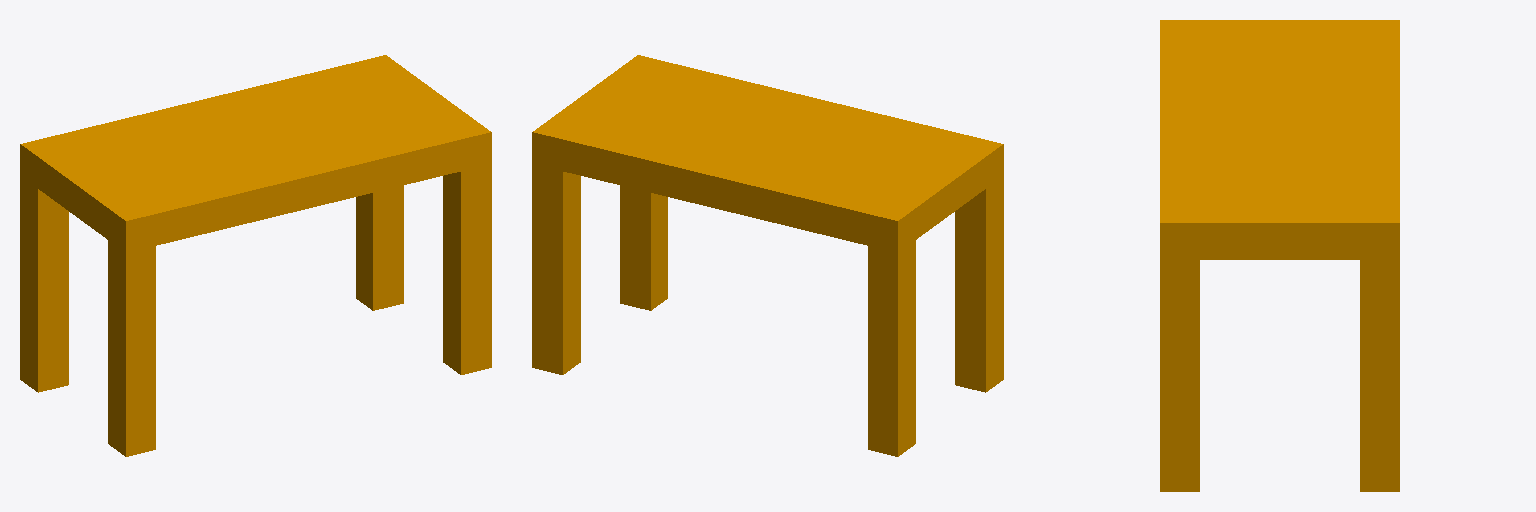
robot.urdf — tableIkea1:
<?xml version="1.0"?>
<robot name="tableIkea1">
	<link name="tableIkea1">
		<inertial>
			<!--origin xyz="0 0 0" rpy="0 0 0" /-->
			<mass value="0.5" />
			<!--inertia ixx="0.000360" ixy="0" ixz="0" iyy="0.0000615" iyz="0" izz="0.00036" /-->
		</inertial>
    		<visual>
	      		<!--origin rpy="0 0 0" xyz="0 0 0"/-->
      			<geometry>
        			<mesh filename="tableIkea1.obj"/>
      			</geometry>
         	</visual>
    		<collision>
      			<!--origin rpy="0 0 0" xyz="0 0 0"/-->
      			<geometry>
        			<mesh filename="tableIkea1.obj"/>
      			</geometry>
    		</collision>
	</link>
</robot>

--- Facts derived from the render (not from the file) ---
Views: 3 orthographic renders of the robot side by side, from view 1: azimuth 30°, elevation 25°; view 2: azimuth 150°, elevation 25°; view 3: azimuth 270°, elevation 25°.
Robot: tableIkea1 — 1 links, 0 joints (none); root link tableIkea1; default pose: all joints at 0.
Links seen in each view (by area): view 1: tableIkea1; view 2: tableIkea1; view 3: tableIkea1.
Boxes of the visible links, left/top/right/bottom form: tableIkea1: left=20, top=55, right=491, bottom=456; tableIkea1: left=532, top=55, right=1003, bottom=456; tableIkea1: left=1160, top=20, right=1399, bottom=491.
Size in the robot's own frame: 1.2 by 0.6 by 0.74 metres.
1 mesh visuals loaded from 1 distinct referenced files (1 OBJ).